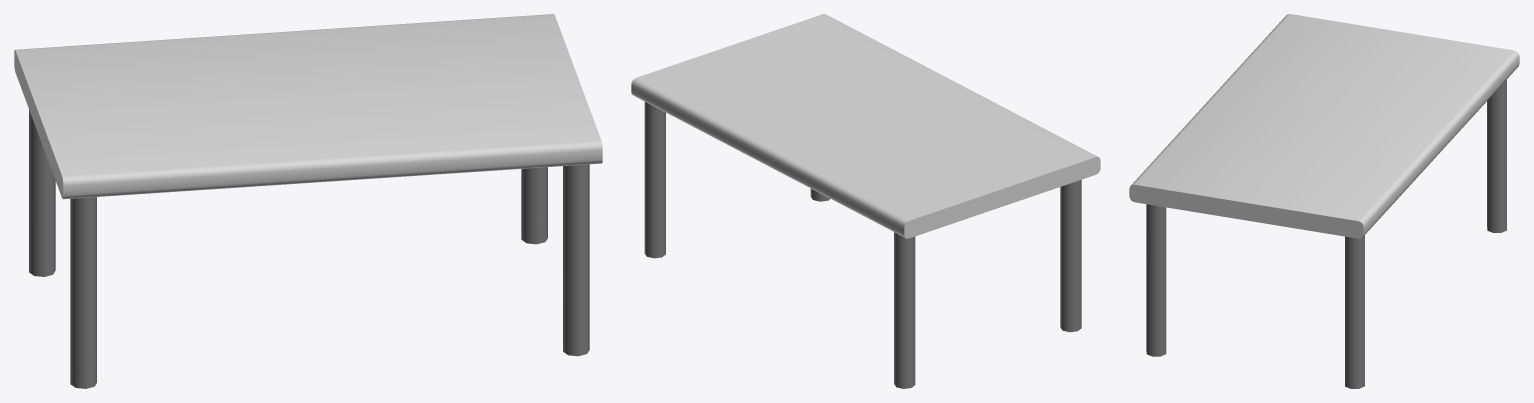
The model's file is Table.fbx.
The picture shows the model from 3 angles, left to right: view 1: azimuth 30°, elevation 25°; view 2: azimuth 150°, elevation 25°; view 3: azimuth 270°, elevation 25°; orthographic projection. The views are drawn at different scales.
Visible parts, largest first — view 1: Table; view 2: Table; view 3: Table.
Boxes of the visible parts, <box> form: Table: <box>14,14,602,388</box>; Table: <box>631,14,1100,388</box>; Table: <box>1129,14,1519,388</box>.
Bounding box in the file's own units: 300 × 237 × 115.
